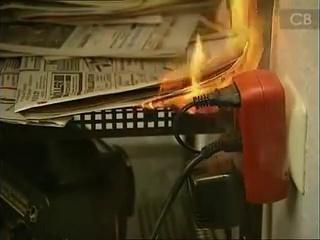Fire: (138, 15, 283, 126)
